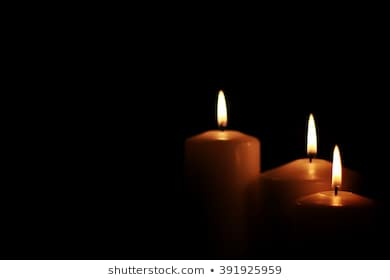Fire: (330, 144, 346, 190), (213, 91, 233, 127), (303, 112, 317, 157)
